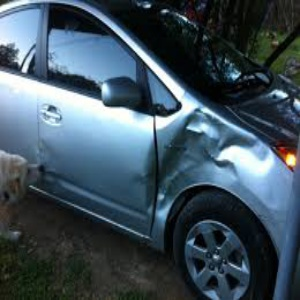door: (121, 117, 265, 215)
